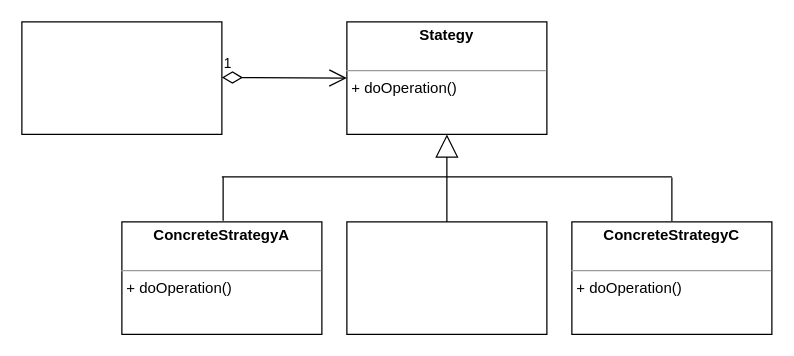
Image size: 794x356. Some labels were removed from this diagram. Each missing label, with the centre of its shape:
ConcreteStrategyB + doOperation(): point 446,277
Context + strategy + execute(): point 121,77
